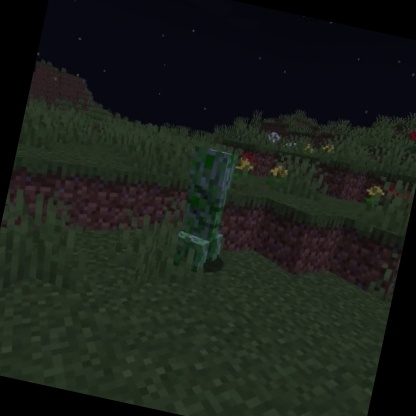creeper: (168, 142, 244, 278)
